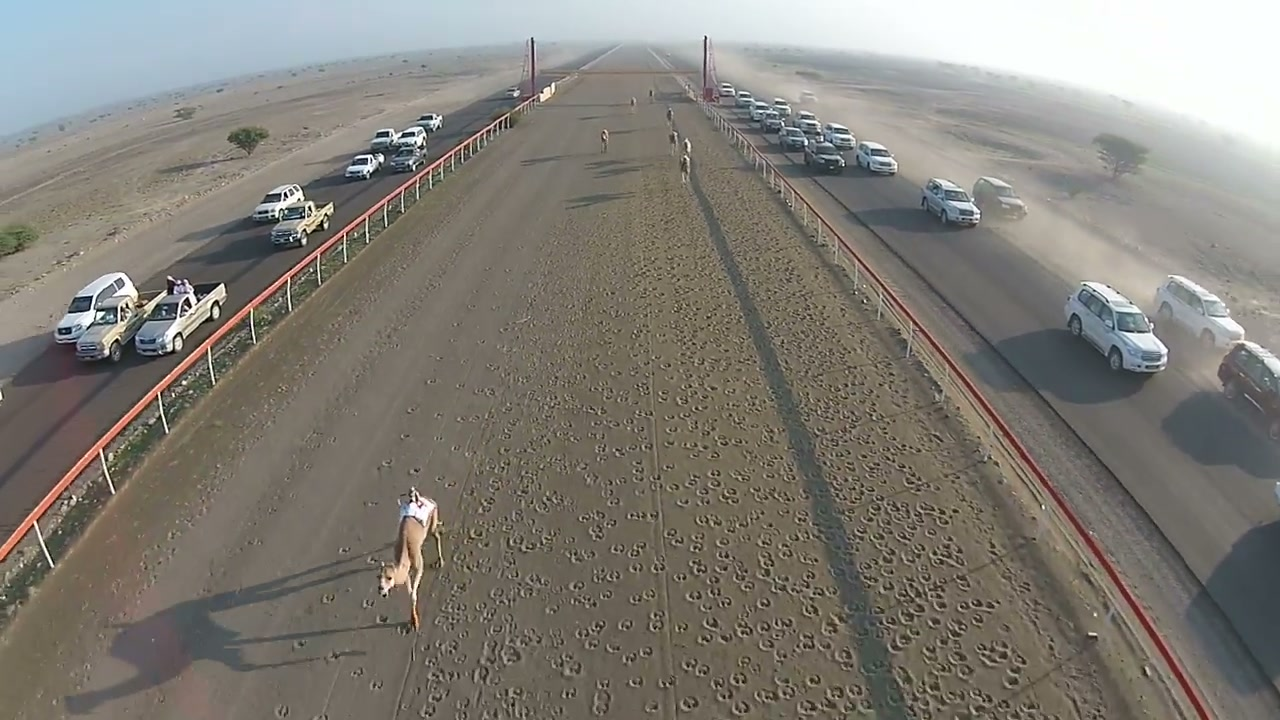animal_footprint: (410, 125, 1143, 719)
